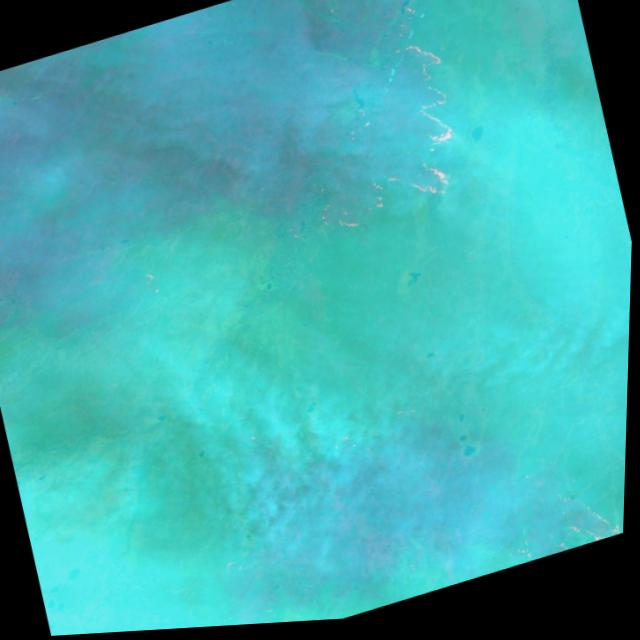fire: (258, 0, 511, 255), (496, 493, 628, 575)
